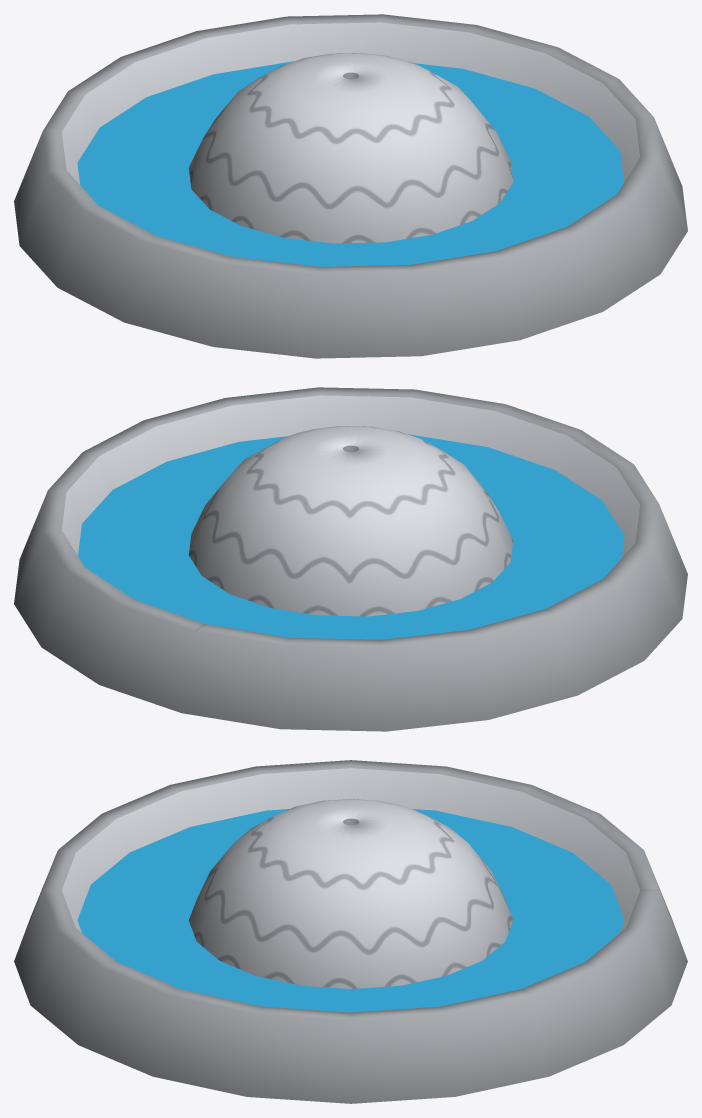
Rendered from Waterfountain.fbx.
3 renders of one model, top to bottom at view 1: azimuth 30°, elevation 25°; view 2: azimuth 150°, elevation 25°; view 3: azimuth 270°, elevation 25°, orthographic.
Parts seen in each view (by area): view 1: fountain; view 2: fountain; view 3: fountain.
Boxes of the visible parts, x1,y1,x2,y2 form: fountain: [14, 14, 687, 358]; fountain: [14, 387, 687, 731]; fountain: [14, 760, 687, 1103].
Size of the model in its own units: 4 by 0.9136 by 4.
2 materials, 1 textured.
